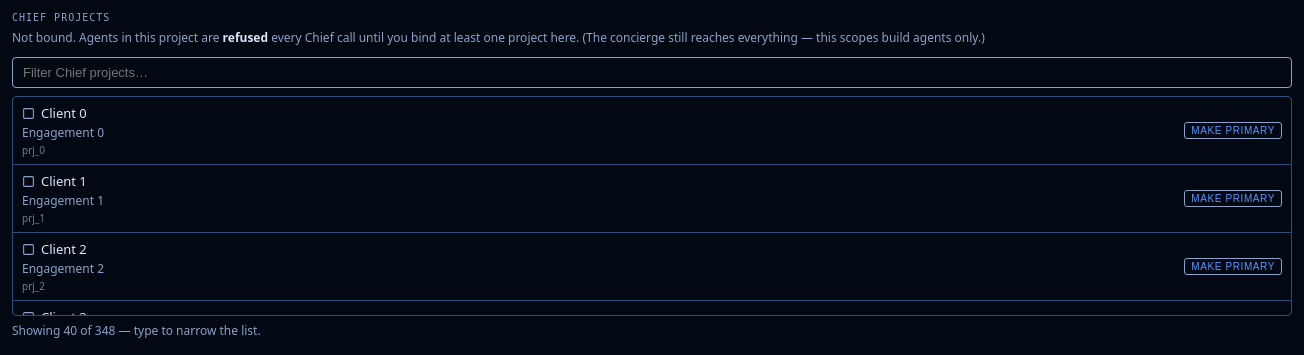
Scenario: ChiefBindingPicker — the filter › narrows a 348-project catalog down to the match
Type "needle" into the field with test id "chief-binding-filter".
click(652, 72); type("needle")  # box [12, 57, 1292, 88]
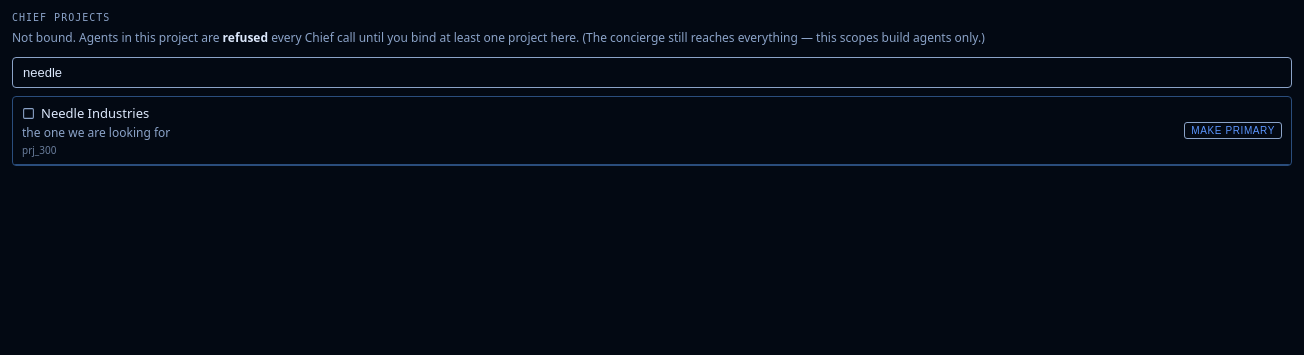
expect the element with test id "chief-binding-row-prj_300" is shown: met, box [13, 97, 1291, 165]
expect the text with test id "chief-binding-overflow" is gone: met
